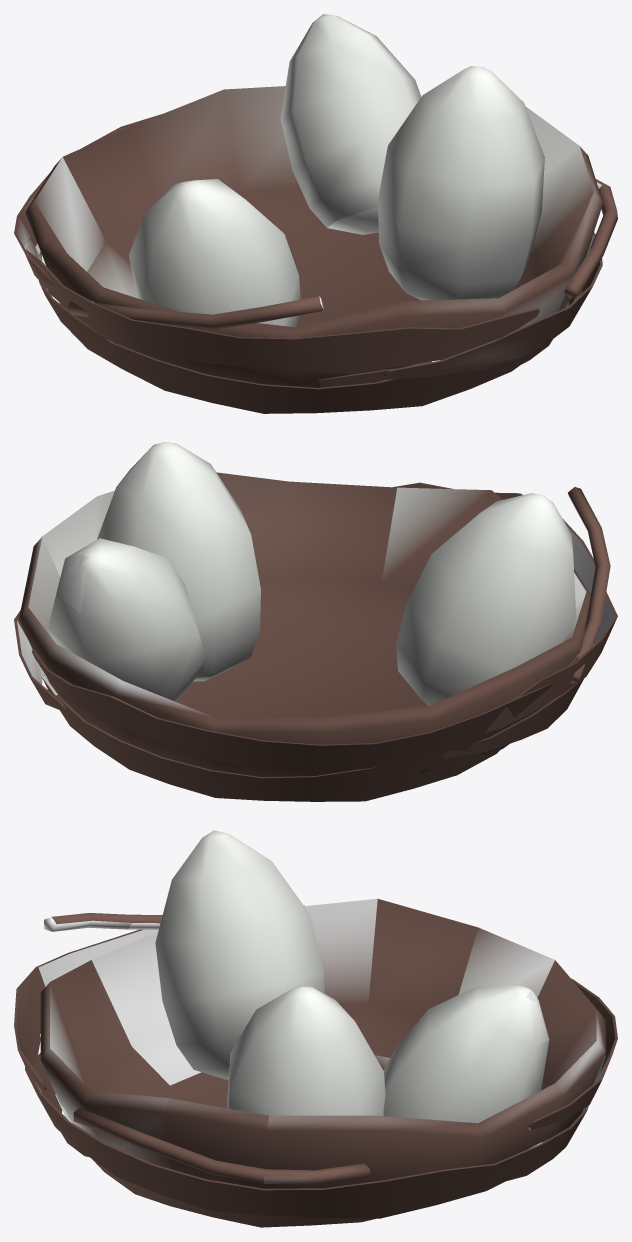
The model's file is nest.fbx.
3 views of the same model, one above another, from view 1: azimuth 30°, elevation 25°; view 2: azimuth 150°, elevation 25°; view 3: azimuth 270°, elevation 25° (orthographic).
Parts seen in each view (by area): view 1: Nest; view 2: Nest; view 3: Nest.
Part boxes in pixels (box(x1,y1,x2,y2)): Nest: box(14, 14, 617, 413); Nest: box(14, 442, 617, 801); Nest: box(14, 830, 617, 1227).
Size of the model in its own units: 72.22 by 30.17 by 72.03.
